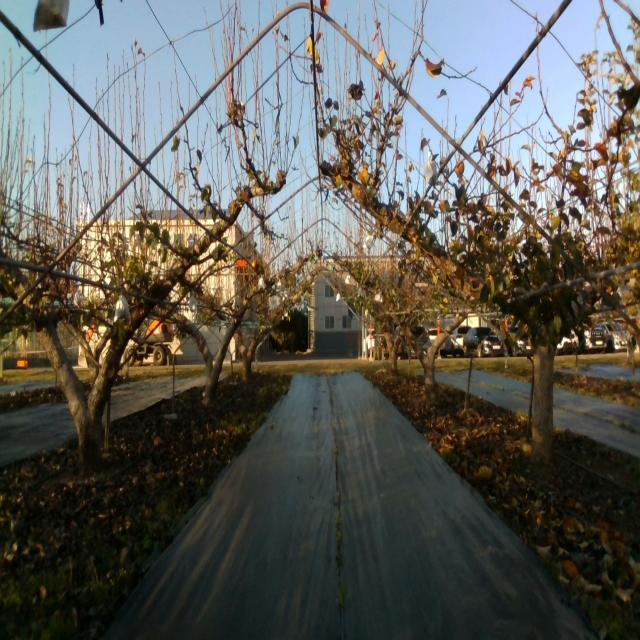pearbags: (33, 0, 71, 32), (114, 295, 130, 322), (424, 160, 437, 189)
